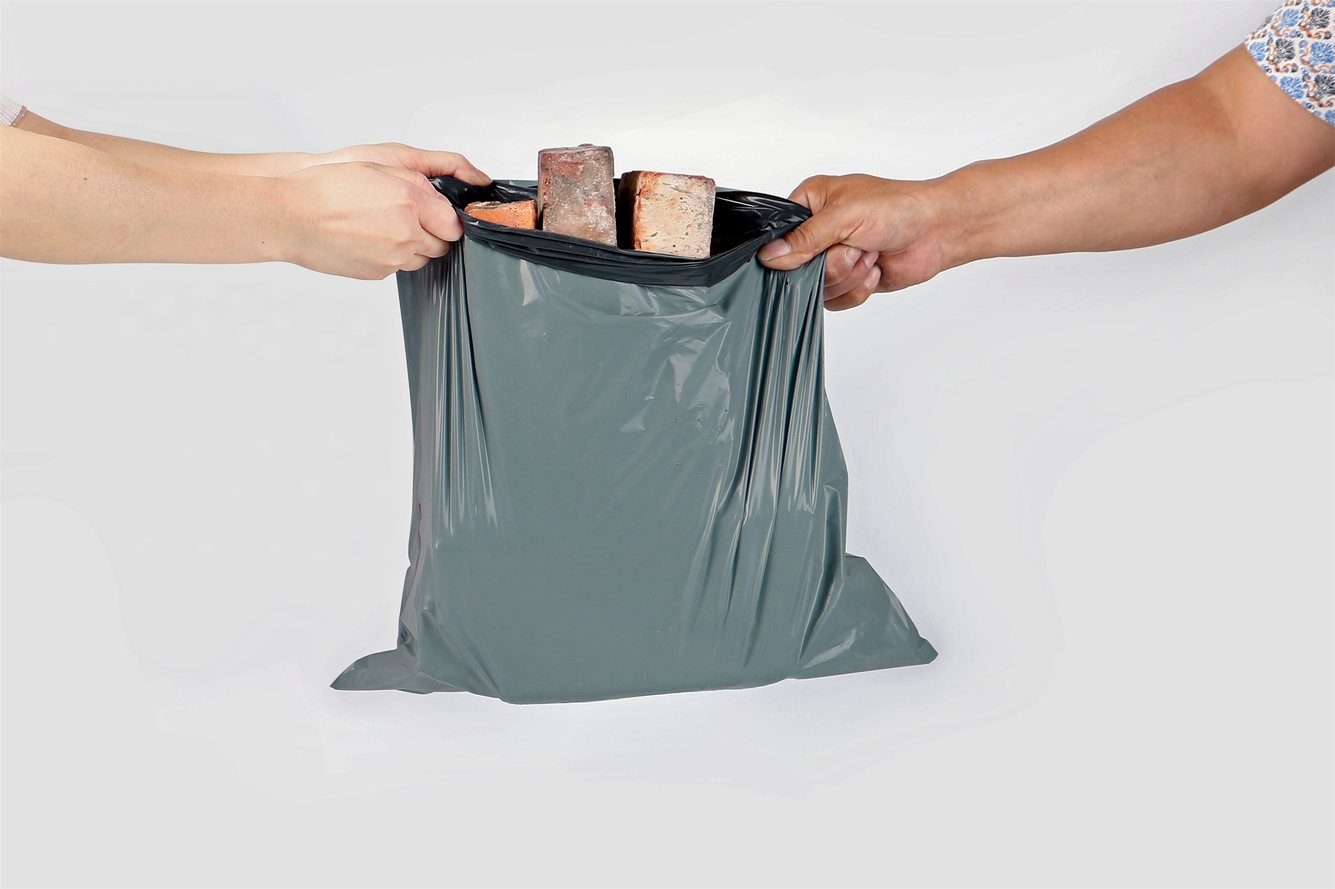塑料袋: (332, 144, 936, 704)
